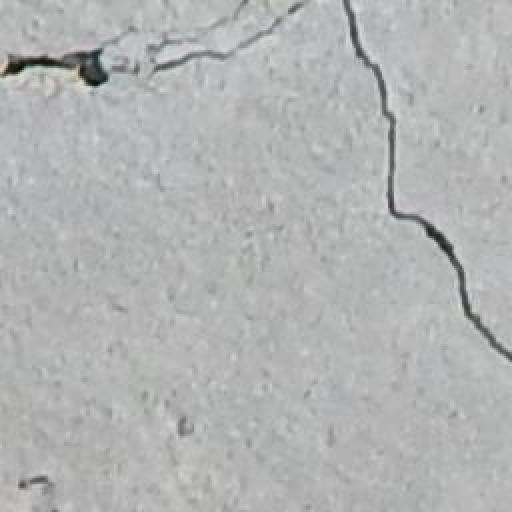spalling: (336, 3, 511, 389), (7, 5, 320, 104)
